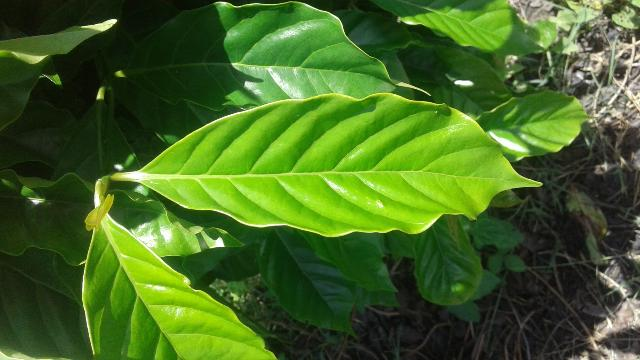healthy: (131, 92, 552, 241)
